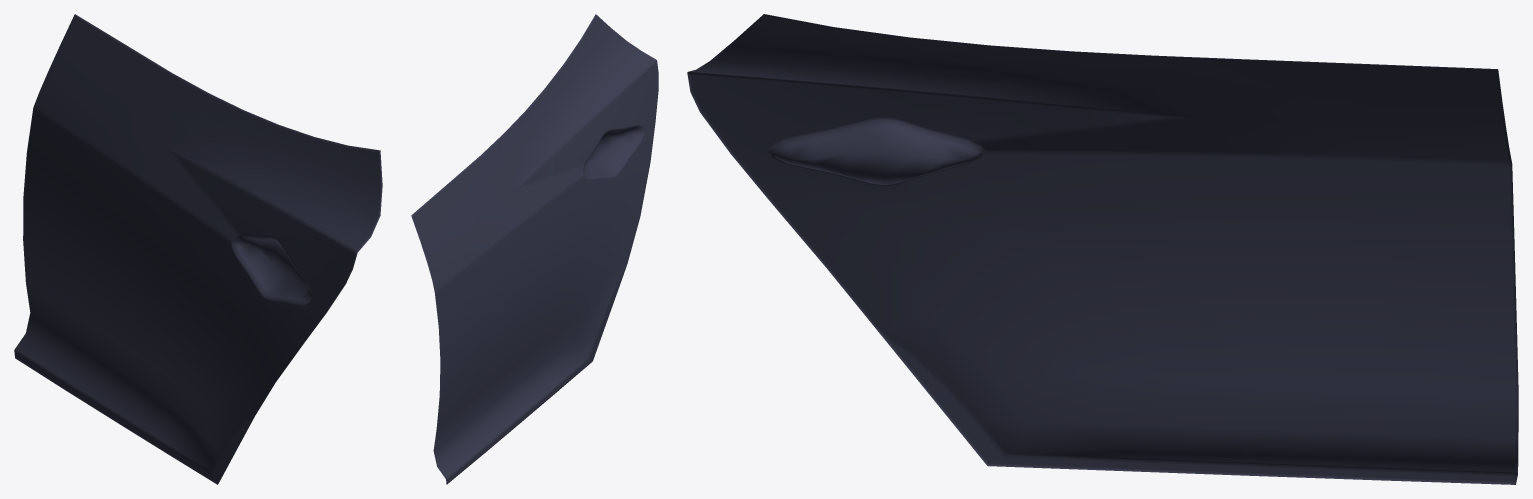
File: back_door.fbx
3 renders of one model, left to right at view 1: azimuth 30°, elevation 25°; view 2: azimuth 150°, elevation 25°; view 3: azimuth 270°, elevation 25°, orthographic. The views are drawn at different scales.
Visible parts, largest first — view 1: d3.004; view 2: d3.004; view 3: d3.004.
Boxes of the visible parts, bbox=[...] form: d3.004: bbox=[14, 14, 382, 484]; d3.004: bbox=[411, 14, 658, 484]; d3.004: bbox=[687, 14, 1518, 484].
Size of the model in its own units: 21.64 by 95.54 by 137.
